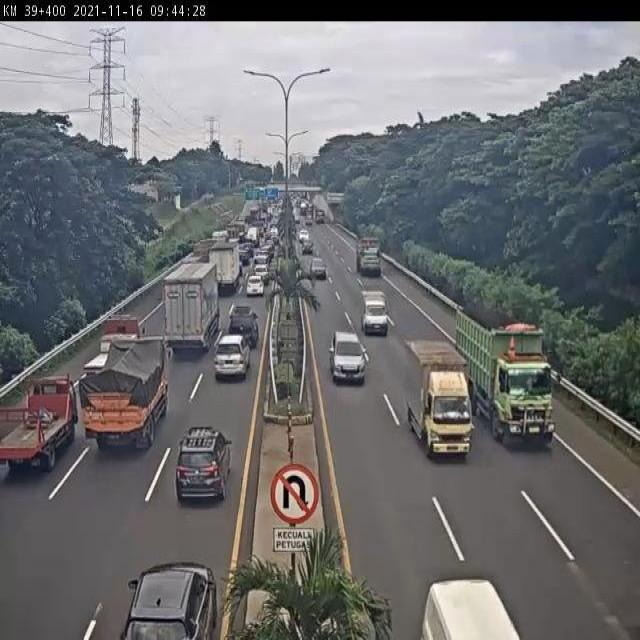car: (175, 427, 232, 501), (327, 331, 366, 381), (213, 335, 248, 380), (228, 305, 259, 347), (245, 276, 264, 296)
small truck: (404, 340, 476, 461), (0, 376, 75, 473), (82, 313, 143, 376), (358, 287, 391, 340)
truck-l-: (456, 311, 555, 445), (165, 263, 219, 352)
truck-m-: (83, 339, 174, 449), (210, 244, 239, 289)
